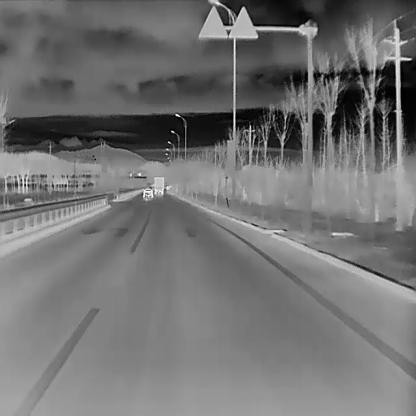car: (153, 176, 164, 194), (142, 186, 153, 198)
